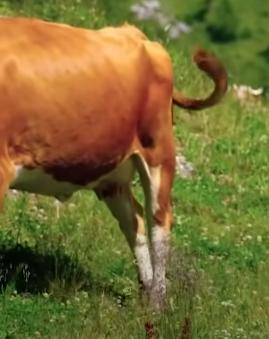cow: (0, 16, 229, 315)
